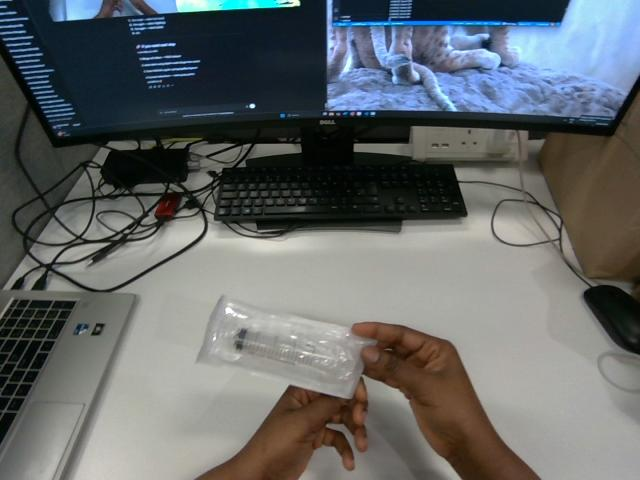syringe: (198, 296, 375, 397)
